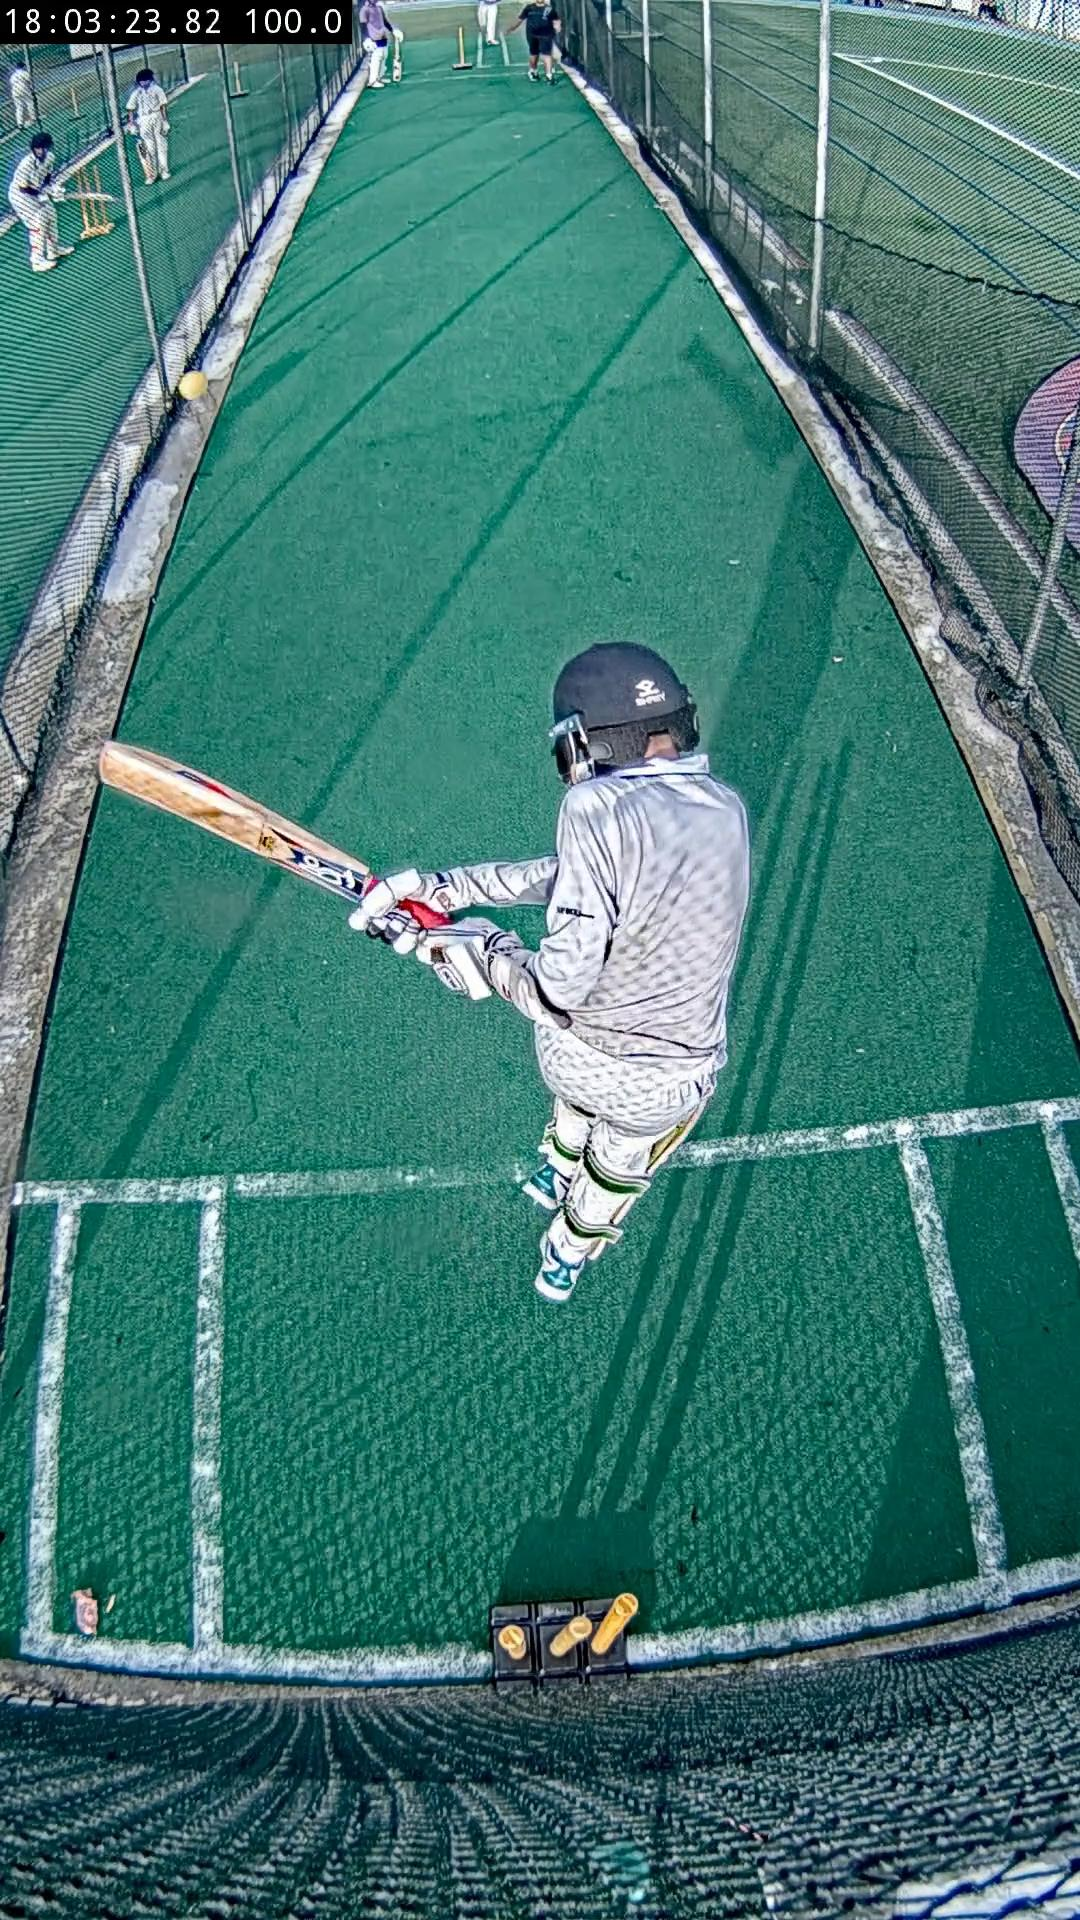ball: (177, 372, 210, 401)
bat: (98, 742, 372, 899), (405, 903, 446, 926)
gloves: (394, 923, 495, 1001), (348, 870, 439, 938)
helmet: (551, 641, 698, 783)
stumps: (488, 1594, 637, 1684)
